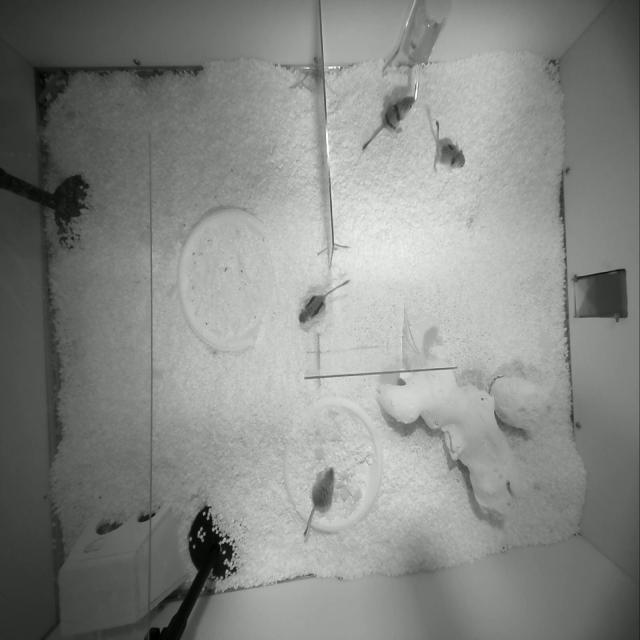pup_fluffy: (304, 467, 334, 536)
pup_h_stripe: (362, 96, 414, 150)
pup_spotted: (427, 107, 465, 171)
pup_v_stripe: (298, 281, 350, 324)
